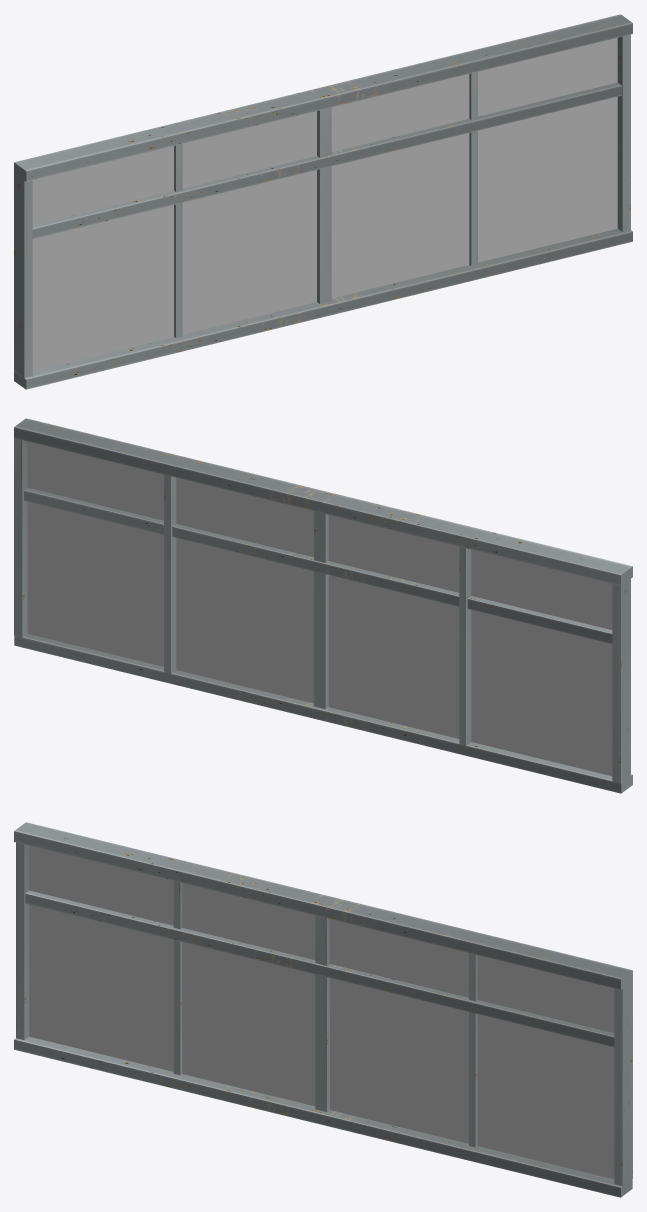
Rendered from bil_window_a2_01.fbx.
3 renders of one model, top to bottom at view 1: azimuth 30°, elevation 25°; view 2: azimuth 150°, elevation 25°; view 3: azimuth 330°, elevation 25°, orthographic.
Parts seen in each view (by area): view 1: bil_window_a2_01; view 2: bil_window_a2_01; view 3: bil_window_a2_01.
Boxes of the visible parts, bbox=[...] form: bil_window_a2_01: bbox=[14, 14, 632, 389]; bil_window_a2_01: bbox=[14, 418, 632, 793]; bil_window_a2_01: bbox=[14, 822, 632, 1197].
Bounding box in the file's own units: 360 × 124 × 12.5.
